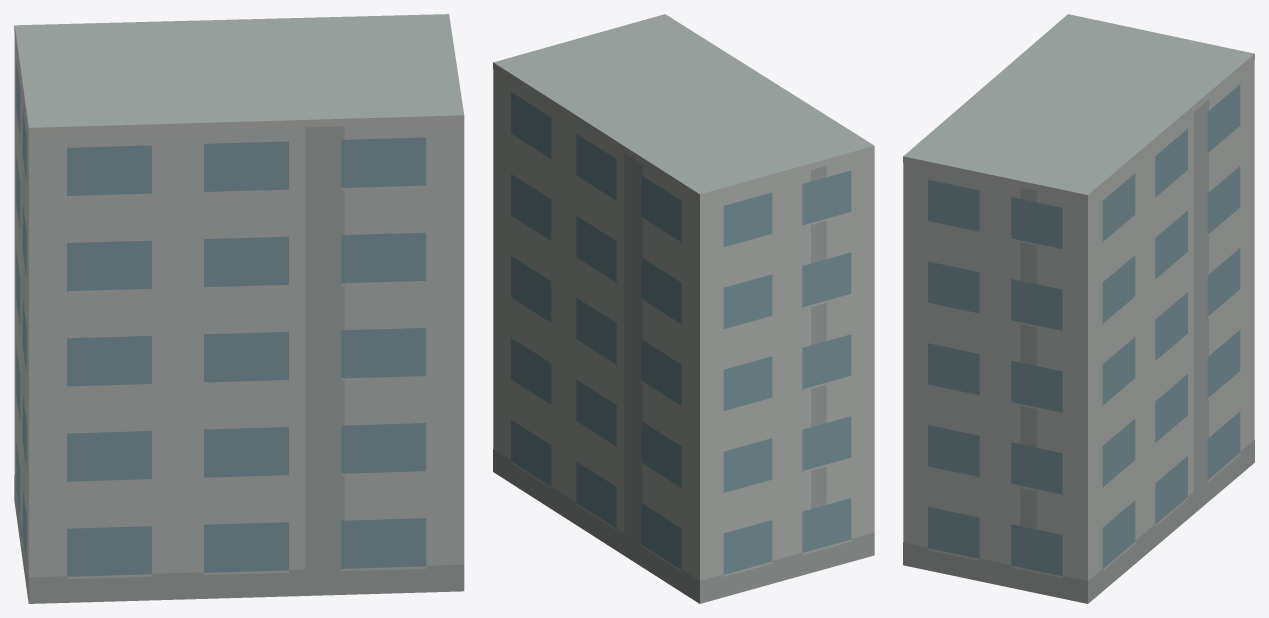
The model's file is survey-upis-32726269.glb.
3 renders of one model, left to right at view 1: azimuth 30°, elevation 25°; view 2: azimuth 150°, elevation 25°; view 3: azimuth 270°, elevation 25°, orthographic. The views are drawn at different scales.
Visible parts, largest first — view 1: survey-upis-32726269.tmp; view 2: survey-upis-32726269.tmp; view 3: survey-upis-32726269.tmp.
Part boxes in pixels (<box>): survey-upis-32726269.tmp: <box>14,14,464,603</box>; survey-upis-32726269.tmp: <box>493,14,874,603</box>; survey-upis-32726269.tmp: <box>903,14,1254,603</box>.
Bounding box in the file's own units: 14.49 × 15.25 × 11.9.
